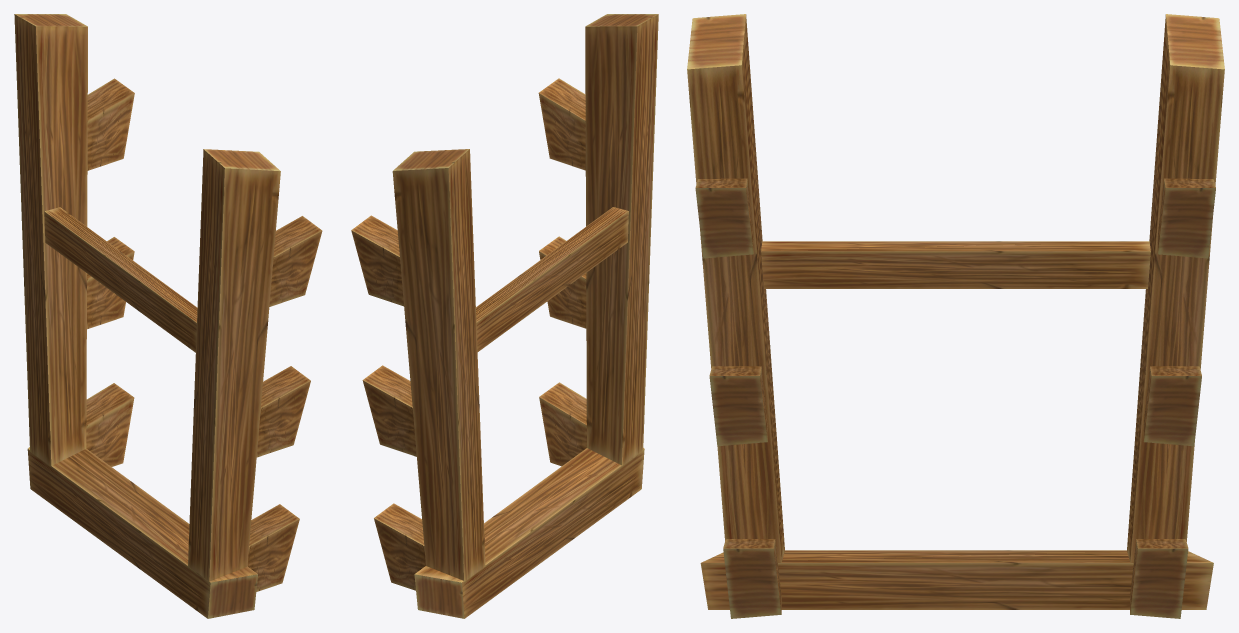
Rendered from gunrack01a.obj.
The picture shows the model from 3 angles, left to right: view 1: azimuth 30°, elevation 25°; view 2: azimuth 150°, elevation 25°; view 3: azimuth 270°, elevation 25°; orthographic projection. The views are drawn at different scales.
Visible parts, largest first — view 1: gunrack01a; view 2: gunrack01a; view 3: gunrack01a.
Part boxes in pixels (x1=…): gunrack01a: x1=14, y1=14, x2=322, y2=618; gunrack01a: x1=351, y1=14, x2=658, y2=618; gunrack01a: x1=687, y1=14, x2=1224, y2=618.
Bounding box in the file's own units: 0.3414 × 1.54 × 1.28.
Materials: 1 (1 with a texture image).
